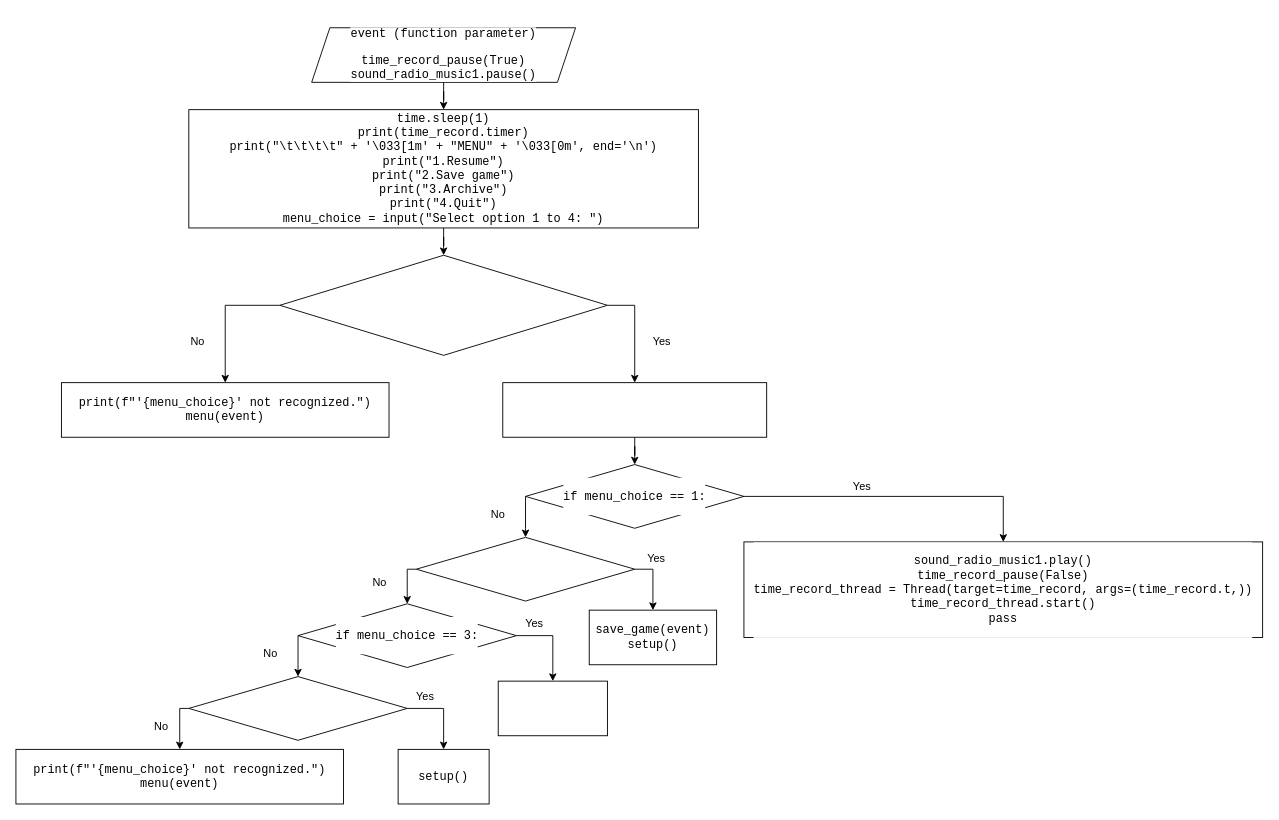
Some shapes in this 1279 by 820 pixel diagram are drawn without their labels. Each missing label, with the centre of its shape:
archive() menu(event): pixel 552 708
if menu_choice == 2:: pixel 525 568
if menu_choice == 4:: pixel 297 708
if menu_choice.isnumeric():: pixel 443 304
menu_choice = int(menu_choice): pixel 634 409
